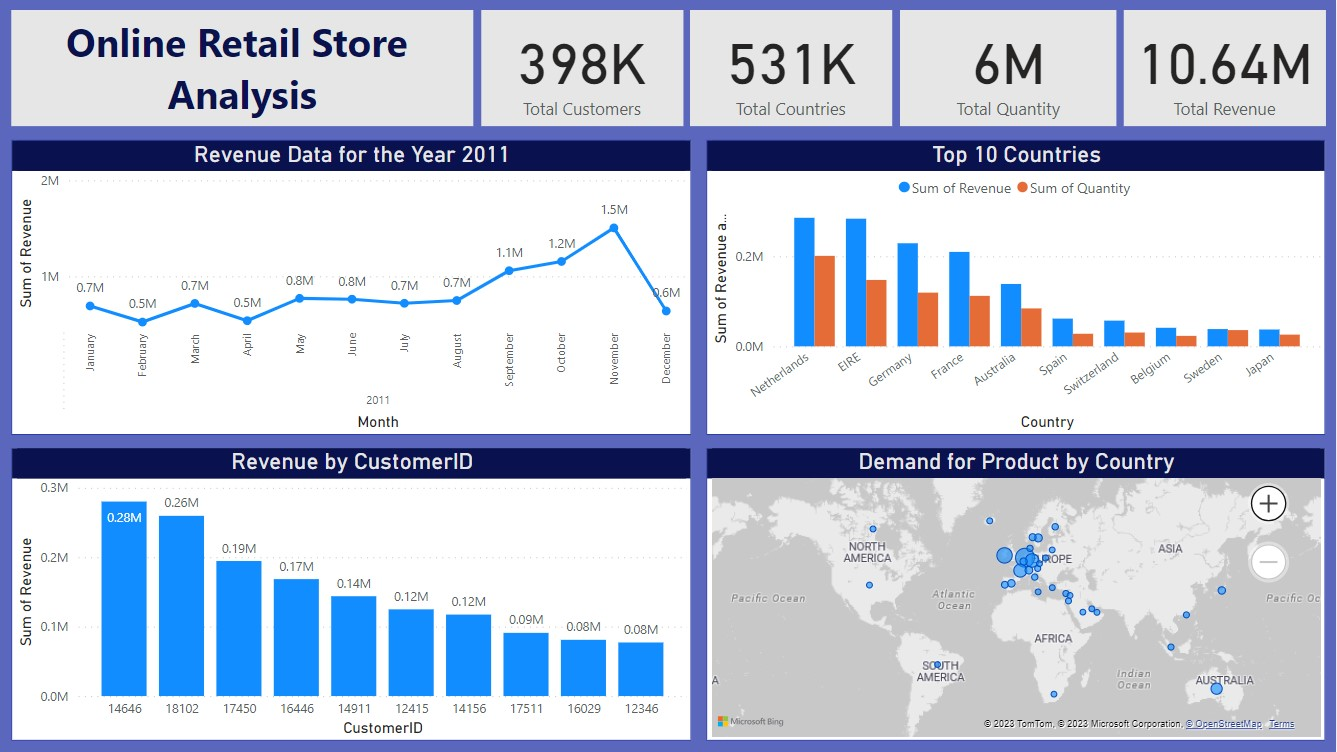

The dashboard page shown, as its layout file describes it:
{"tool":"powerbi","page":{"name":"Dashboard","canvas":[1280,720],"ordinal":4},"visuals":[{"type":"lineChart","title":"Revenue Data for the Year 2011","fields":{"Y":["Sum(Online Retail.Revenue)"],"Category":["Online Retail.InvoiceDate.Variation.Date Hierarchy.Year","Online Retail.InvoiceDate.Variation.Date Hierarchy.Month"]},"box":[11.1,133.6,651.1,282.4],"z":0},{"type":"clusteredColumnChart","title":"Top 10 Countries","fields":{"Category":["Online Retail.Country"],"Y":["Sum(Online Retail.Revenue)","Sum(Online Retail.Quantity)"]},"box":[676.2,133.6,592.7,282.4],"z":1000},{"type":"columnChart","title":"Revenue by CustomerID","fields":{"Y":["Sum(Online Retail.Revenue)"],"Category":["Online Retail.CustomerID"]},"box":[11.1,428.5,651.1,281],"z":2000},{"type":"map","title":"Demand for Product by Country","fields":{"Category":["Online Retail.Country"],"Size":["Sum(Online Retail.Quantity)"]},"box":[676.2,428.5,592.7,281],"z":3000},{"type":"textbox","box":[11.1,9.7,442.4,111.3],"z":4000},{"type":"card","fields":{"Values":["Online Retail.Total Customers"]},"box":[460.5,9.7,193.4,111.3],"z":5000},{"type":"card","fields":{"Values":["Online Retail.Total Quantity"]},"box":[861.2,9.7,207.3,111.3],"z":7000},{"type":"card","fields":{"Values":["Online Retail.Total Revenue"]},"box":[1075.5,9.7,193.4,111.3],"z":8000},{"type":"card","fields":{"Values":["Online Retail.Total Countries"]},"box":[660.9,9.7,193.4,111.3],"z":8001}]}

Visuals, with their boxes in screenshot pixels (x1, y1, x2, y2), scaled from the page's 1280x720 canvas onto the 1337x752 screenshot:
"Revenue Data for the Year 2011" lineChart: [left=12, top=140, right=692, bottom=434]
"Top 10 Countries" clusteredColumnChart: [left=706, top=140, right=1325, bottom=434]
"Revenue by CustomerID" columnChart: [left=12, top=448, right=692, bottom=741]
"Demand for Product by Country" map: [left=706, top=448, right=1325, bottom=741]
textbox: [left=12, top=10, right=474, bottom=126]
card - Online Retail.Total Customers: [left=481, top=10, right=683, bottom=126]
card - Online Retail.Total Quantity: [left=900, top=10, right=1116, bottom=126]
card - Online Retail.Total Revenue: [left=1123, top=10, right=1325, bottom=126]
card - Online Retail.Total Countries: [left=690, top=10, right=892, bottom=126]
